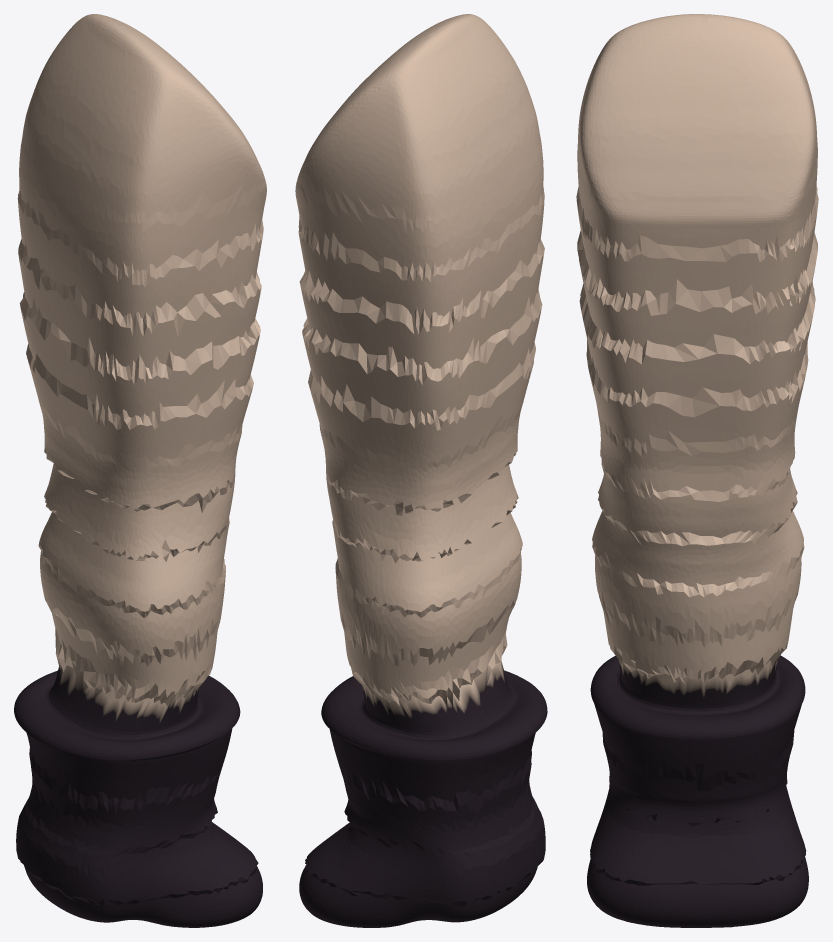
File: leg_L.glb
3 views of the same model, side by side, from view 1: azimuth 30°, elevation 25°; view 2: azimuth 150°, elevation 25°; view 3: azimuth 270°, elevation 25° (orthographic).
Parts seen in each view (by area): view 1: geometry_0; view 2: geometry_0; view 3: geometry_0.
Part boxes in pixels (x1=…): geometry_0: x1=14, y1=14, x2=266, y2=927; geometry_0: x1=295, y1=14, x2=547, y2=927; geometry_0: x1=576, y1=14, x2=818, y2=927.
Bounding box in the file's own units: 0.3419 × 1.41 × 0.3567.
